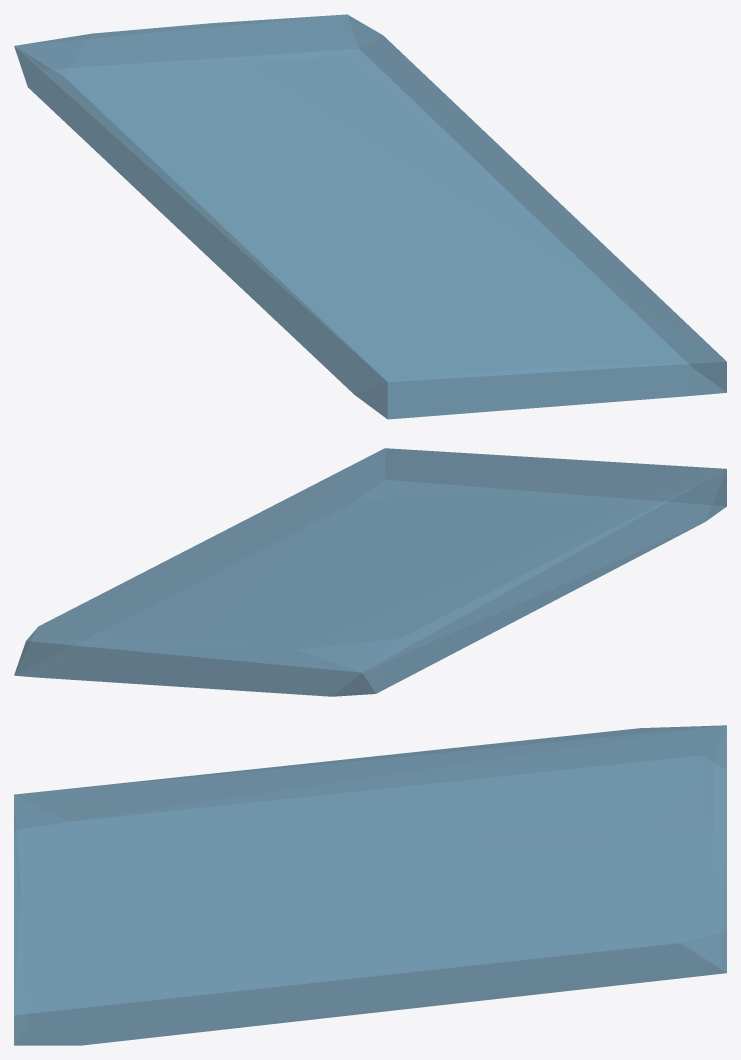
3 renders of one model, top to bottom at view 1: azimuth 30°, elevation 25°; view 2: azimuth 150°, elevation 25°; view 3: azimuth 270°, elevation 25°, orthographic. The views are drawn at different scales.
Visible parts, largest first — view 1: Shape_IndexedFaceSet.029_Shape_IndexedFaceSet.17564; view 2: Shape_IndexedFaceSet.029_Shape_IndexedFaceSet.17564; view 3: Shape_IndexedFaceSet.029_Shape_IndexedFaceSet.17564.
Part boxes in pixels (left/top/right/bottom): Shape_IndexedFaceSet.029_Shape_IndexedFaceSet.17564: left=14, top=14, right=726, bottom=419; Shape_IndexedFaceSet.029_Shape_IndexedFaceSet.17564: left=14, top=448, right=726, bottom=696; Shape_IndexedFaceSet.029_Shape_IndexedFaceSet.17564: left=14, top=725, right=726, bottom=1045.
Size of the model in its own units: 0.1575 by 0.0706 by 0.2906.
